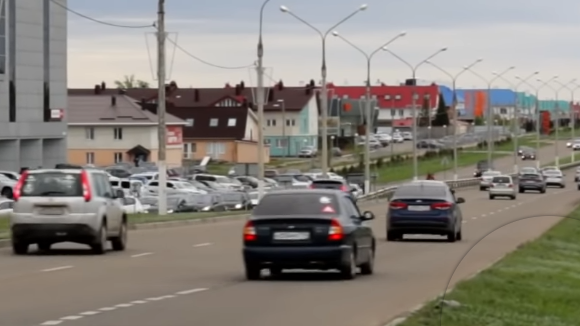non emergency car: (244, 190, 375, 280), (14, 167, 127, 258), (385, 179, 465, 243), (489, 175, 517, 201), (518, 173, 545, 194), (545, 170, 565, 189), (479, 170, 500, 188), (520, 148, 536, 161)
